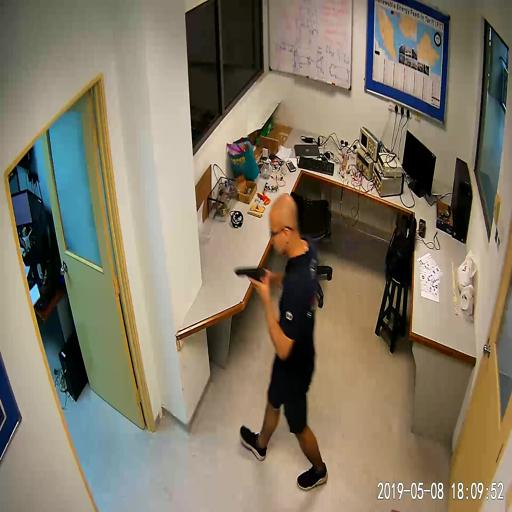pistol: (231, 258, 270, 288)
